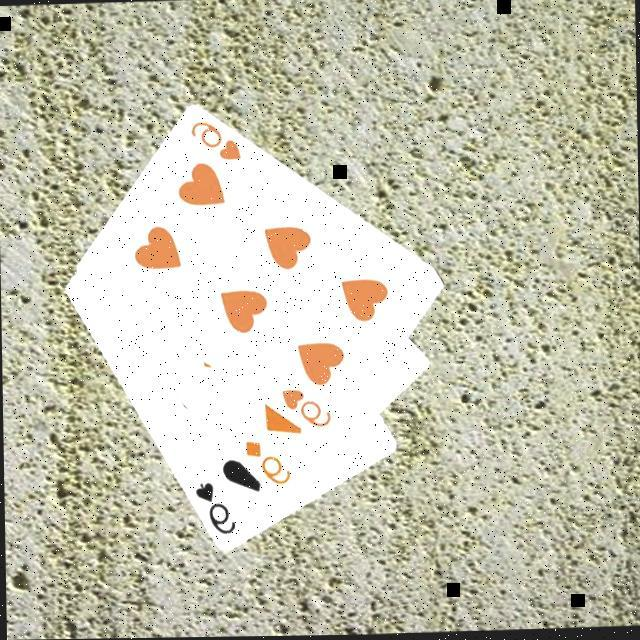6D: (242, 439, 295, 493)
6H: (186, 118, 245, 168), (279, 387, 336, 435)
6S: (193, 481, 240, 542)
